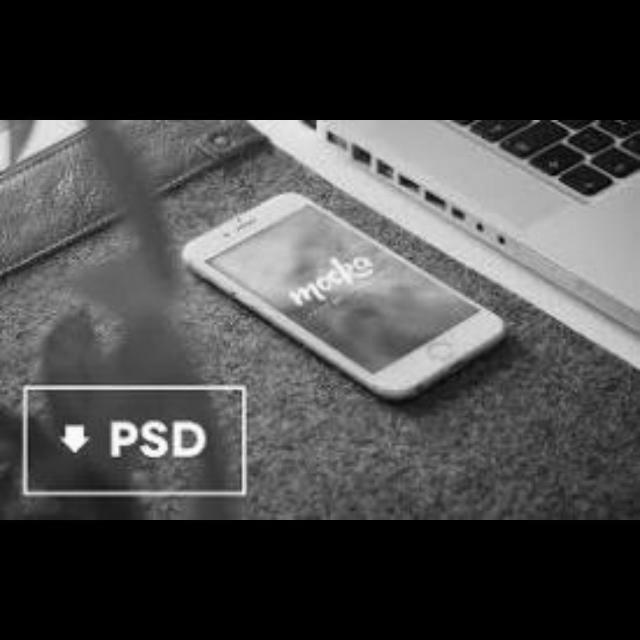fake: (154, 192, 528, 412)
